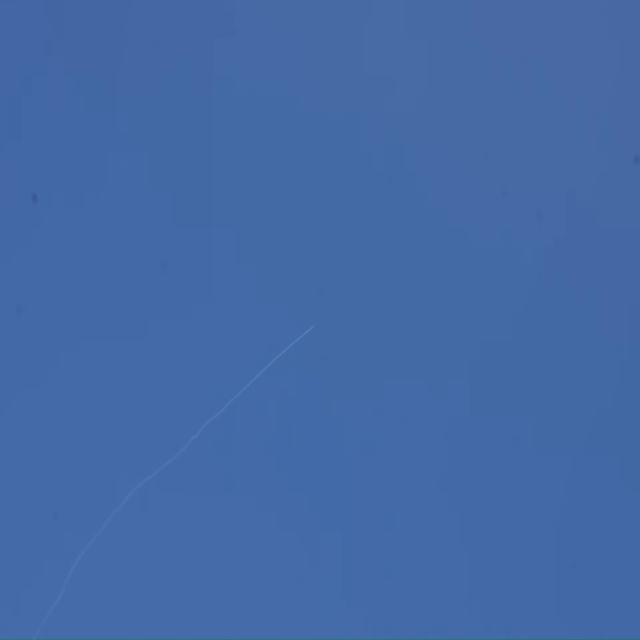Rocket: (312, 325, 314, 327)
